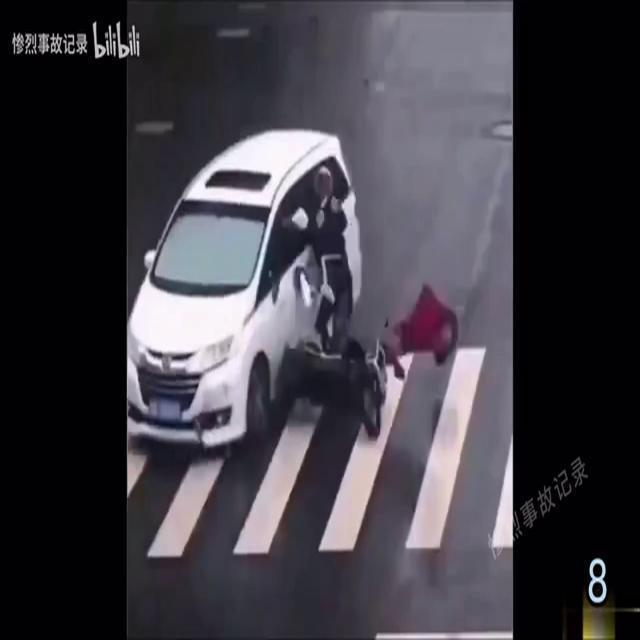accident: (126, 100, 462, 462)
